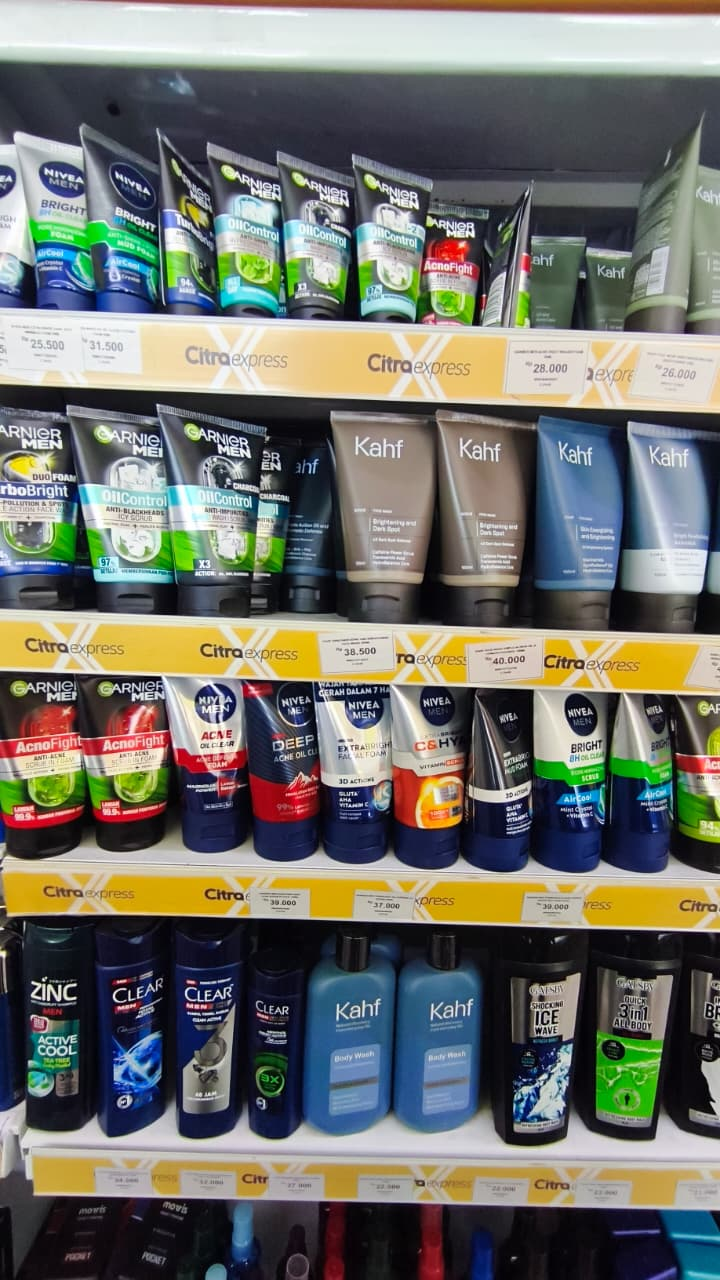Clear: (157, 943, 251, 1073)
Garnier Men: (168, 398, 262, 528)
Kahf: (333, 406, 427, 536), (527, 412, 621, 542), (403, 962, 497, 1092), (300, 961, 394, 1091)
Zinc: (3, 931, 97, 1061)
